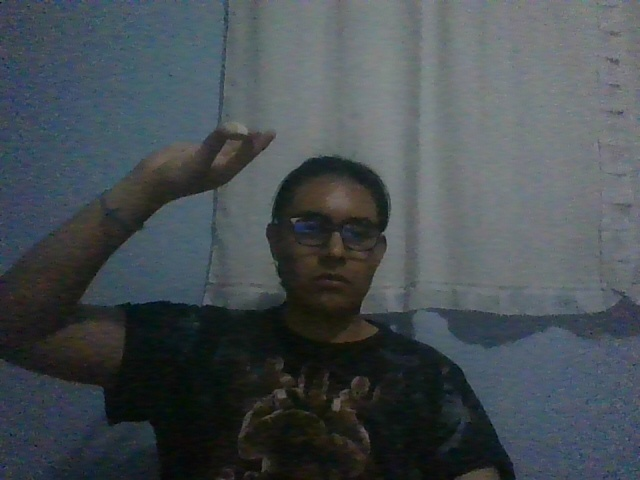goma: (218, 122, 249, 141)
